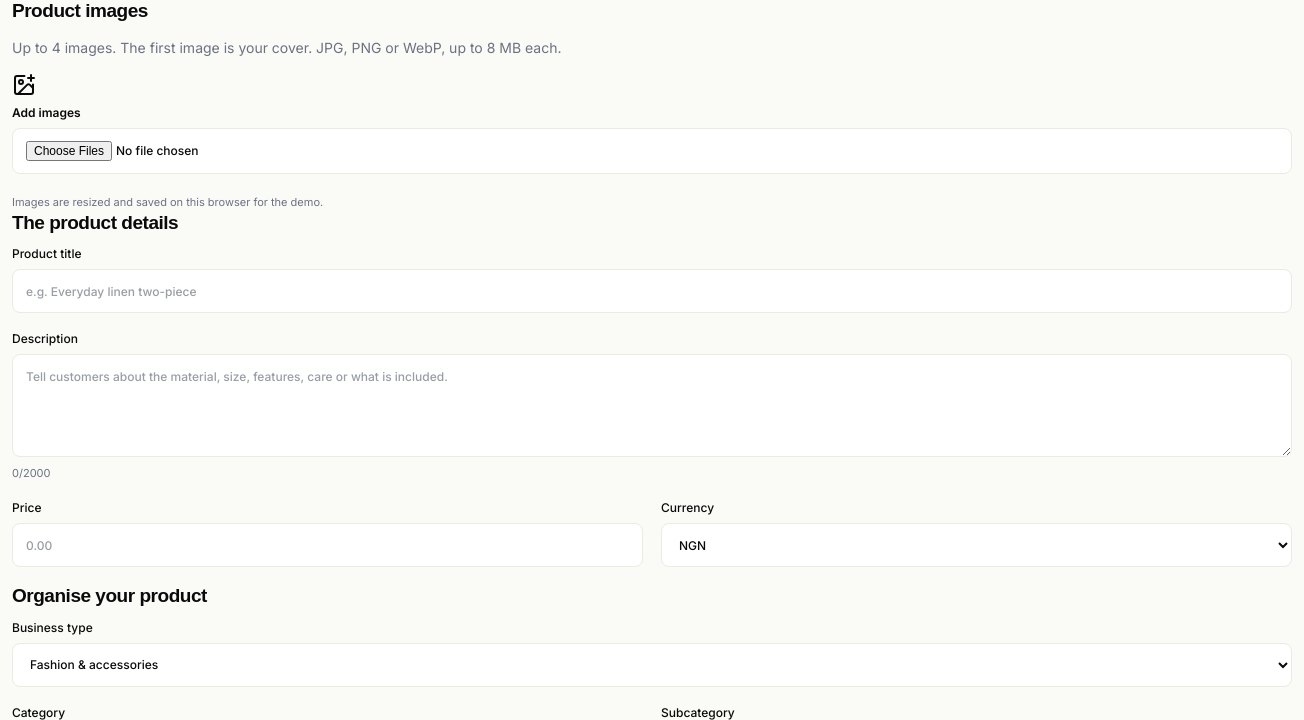
Scenario: resets dependent category choices when the business type changes
Select "Food & hospitality" in the dropdown labelled "Business type" at (652, 665), box [12, 643, 1292, 687]
(page scrolled)
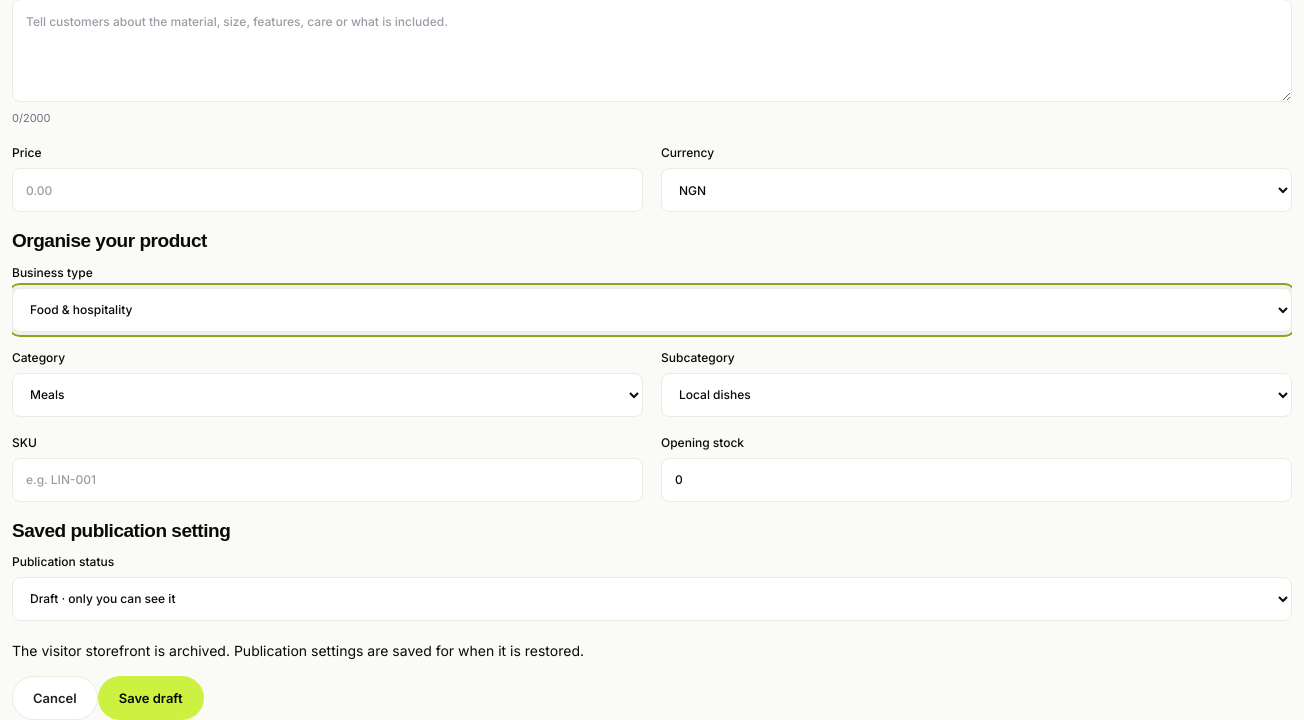
Result: the dropdown labelled "Category" shows "Meals"
Result: the dropdown labelled "Subcategory" shows "Local dishes" at [661, 373, 1292, 417]
Select "Drinks" in the dropdown labelled "Category" at (328, 395), box [12, 373, 643, 417]
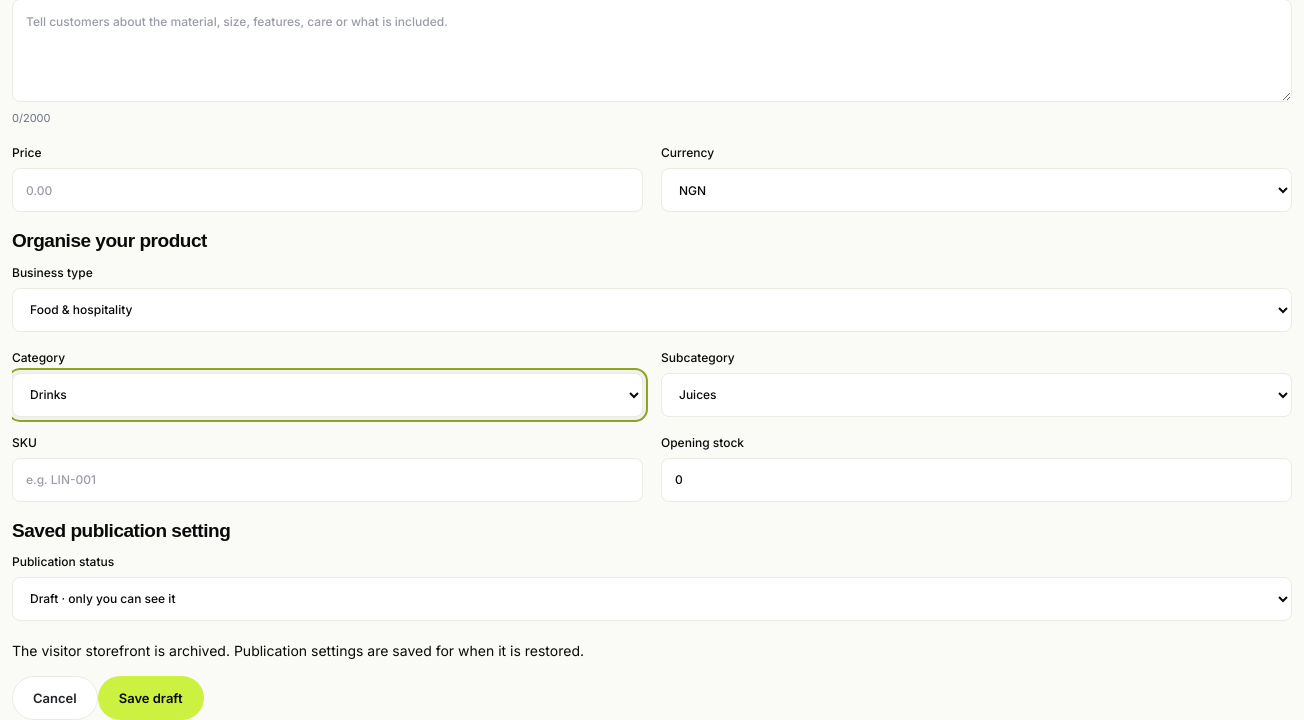
Result: the dropdown labelled "Subcategory" shows "Juices" at [661, 373, 1292, 417]
